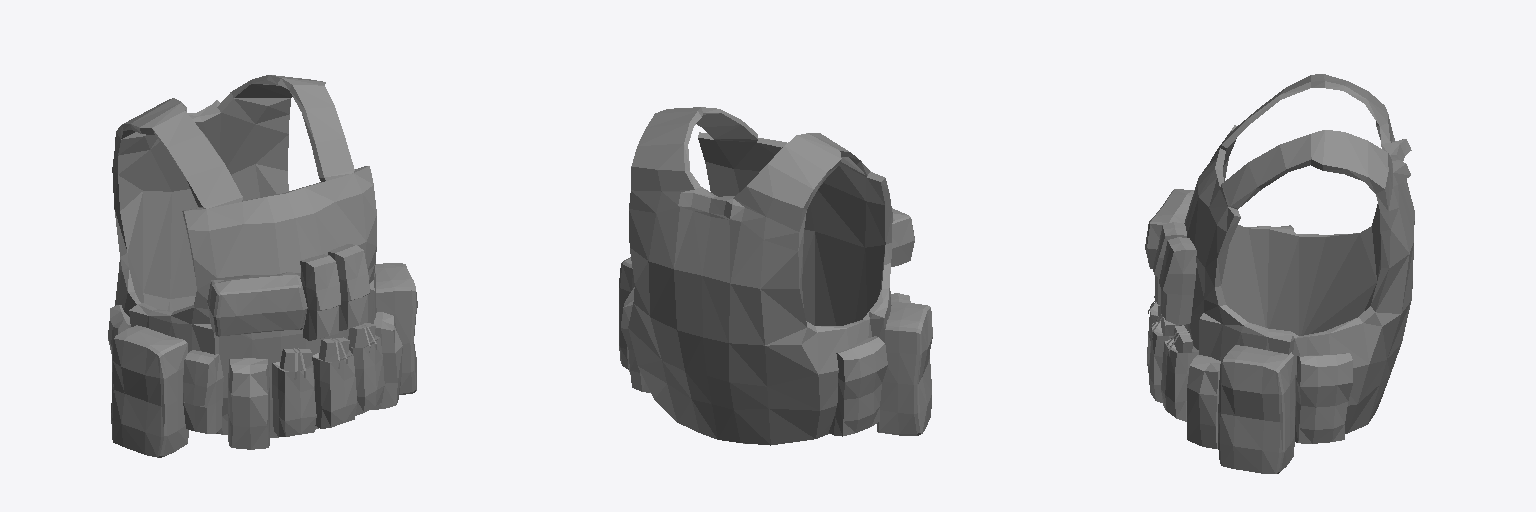
Rendered from BodyArmor_Pouches.obj.
The picture shows the model from 3 angles: view 1: azimuth 30°, elevation 25°; view 2: azimuth 150°, elevation 25°; view 3: azimuth 270°, elevation 25°; orthographic projection.
Visible parts, largest first — view 1: SK_CH_BodyArmor_Pouches; view 2: SK_CH_BodyArmor_Pouches; view 3: SK_CH_BodyArmor_Pouches.
Part boxes in pixels (x1,y1,x2,y2): SK_CH_BodyArmor_Pouches: (108, 75, 417, 457); SK_CH_BodyArmor_Pouches: (619, 107, 932, 445); SK_CH_BodyArmor_Pouches: (1145, 74, 1414, 473).
Bounding box in the file's own units: 62.19 × 59.88 × 48.92.